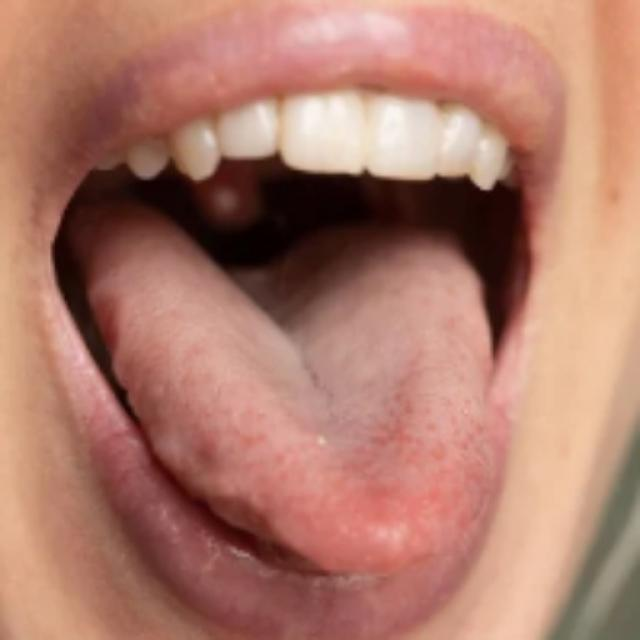processing_area: (73, 211, 496, 573)
